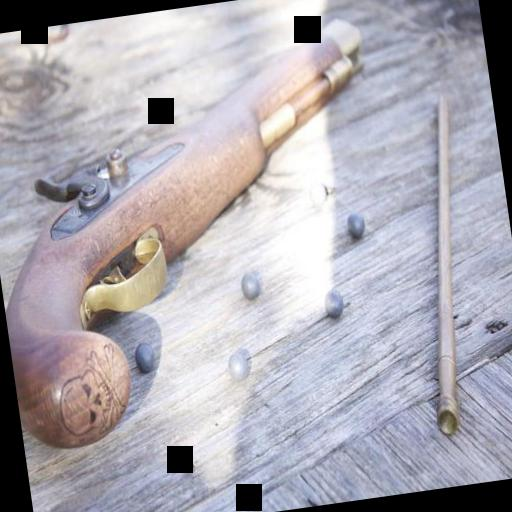Handgun: (0, 6, 416, 461)
